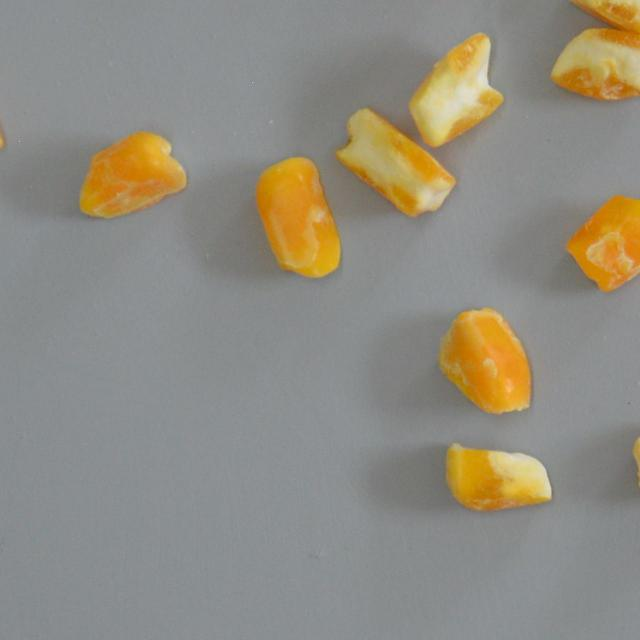estandar: (334, 107, 455, 217)
pelicula: (406, 32, 503, 148), (255, 152, 340, 282), (436, 307, 536, 416), (76, 130, 188, 220), (561, 191, 640, 292), (444, 442, 552, 511), (552, 24, 640, 102), (566, 0, 640, 38)
